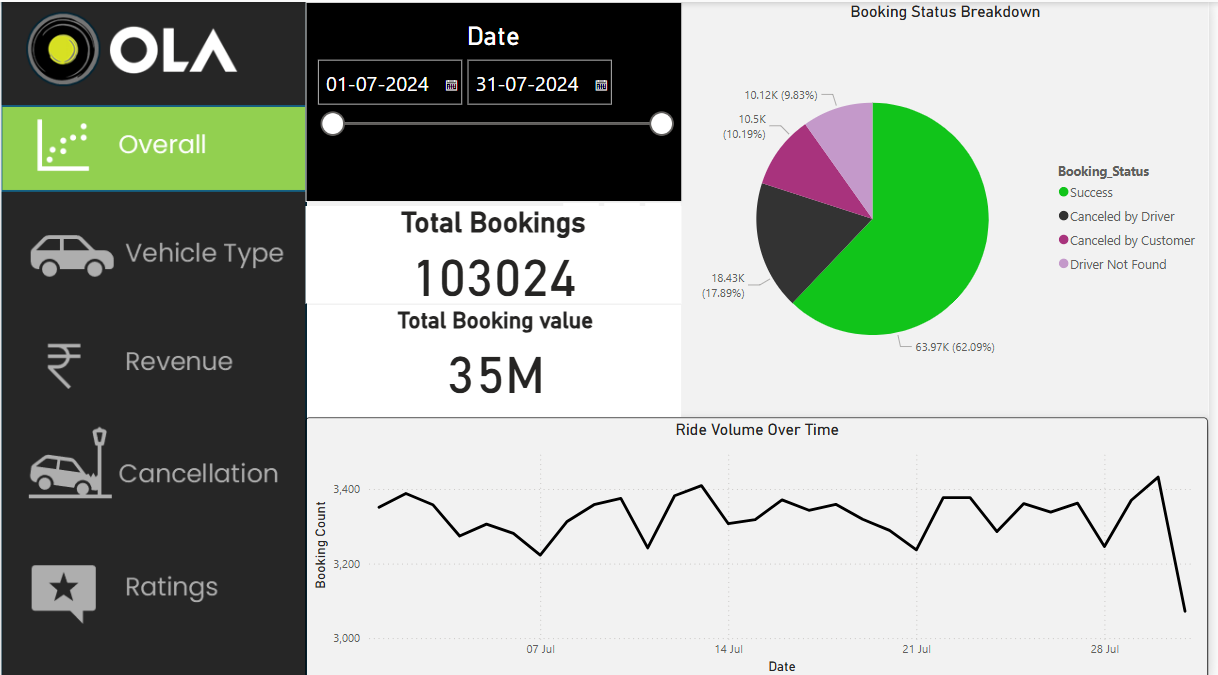

Layout of this report page (visuals, bound fields, positions):
{"tool":"powerbi","page":{"name":"overall","canvas":[1280,720],"ordinal":0},"visuals":[{"type":"actionButton","box":[0,216.3,322.9,92.3],"z":0},{"type":"actionButton","box":[0,338.8,322.9,84.3],"z":1000},{"type":"actionButton","box":[0,440.6,322.9,101.8],"z":2000},{"type":"actionButton","box":[0,579,322.9,95.4],"z":3000},{"type":"lineChart","title":"Ride Volume Over Time ","fields":{"Y":["CountNonNull(July.Booking_ID)"],"Category":["July.Date"]},"box":[323.3,440,956.7,280],"z":4000},{"type":"pieChart","title":"Booking Status Breakdown","fields":{"Y":["CountNonNull(July.Booking_Status)"],"Category":["July.Booking_Status"]},"box":[721.7,0,558.3,440],"z":5000},{"type":"slicer","title":"Date","fields":{"Values":["July.Date"]},"box":[323.3,0,398.3,211.7],"z":6000},{"type":"card","title":"Total Bookings","fields":{"Values":["Count(July.Booking_ID)"]},"box":[323.3,216.7,398.3,103.3],"z":7000},{"type":"card","title":"Total Booking value","fields":{"Values":["Sum(July.Booking_Value)"]},"box":[324.1,320.7,396.6,119],"z":8000}]}

Visuals, with their boxes in screenshot pixels (x1, y1, x2, y2), scaled from the page's 1280x720 canvas onto the 1218x675 screenshot:
actionButton: left=0, top=203, right=307, bottom=289
actionButton: left=0, top=318, right=307, bottom=397
actionButton: left=0, top=413, right=307, bottom=508
actionButton: left=0, top=543, right=307, bottom=632
"Ride Volume Over Time " lineChart: left=308, top=412, right=1217, bottom=674
"Booking Status Breakdown" pieChart: left=687, top=0, right=1217, bottom=412
"Date" slicer: left=308, top=0, right=687, bottom=198
"Total Bookings" card: left=308, top=203, right=687, bottom=300
"Total Booking value" card: left=308, top=301, right=686, bottom=412
